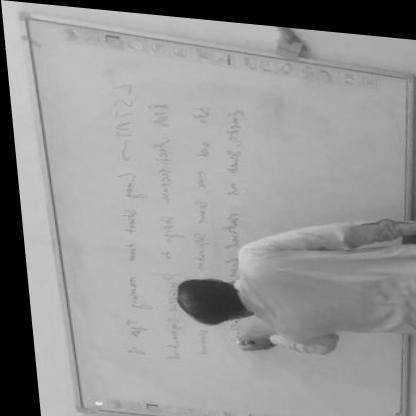Handwritten text: (96, 73, 158, 360), (139, 98, 188, 364), (175, 88, 222, 272), (210, 97, 254, 285)
Lecturer: (157, 215, 416, 376)
Whiteboard: (4, 14, 412, 416)
